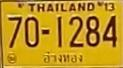0: (24, 16, 38, 47)
1: (57, 16, 61, 47)
2: (68, 16, 82, 46)
4: (102, 15, 116, 46)
7: (7, 16, 21, 47)
8: (85, 15, 99, 46)
ATG: (41, 50, 84, 63)
